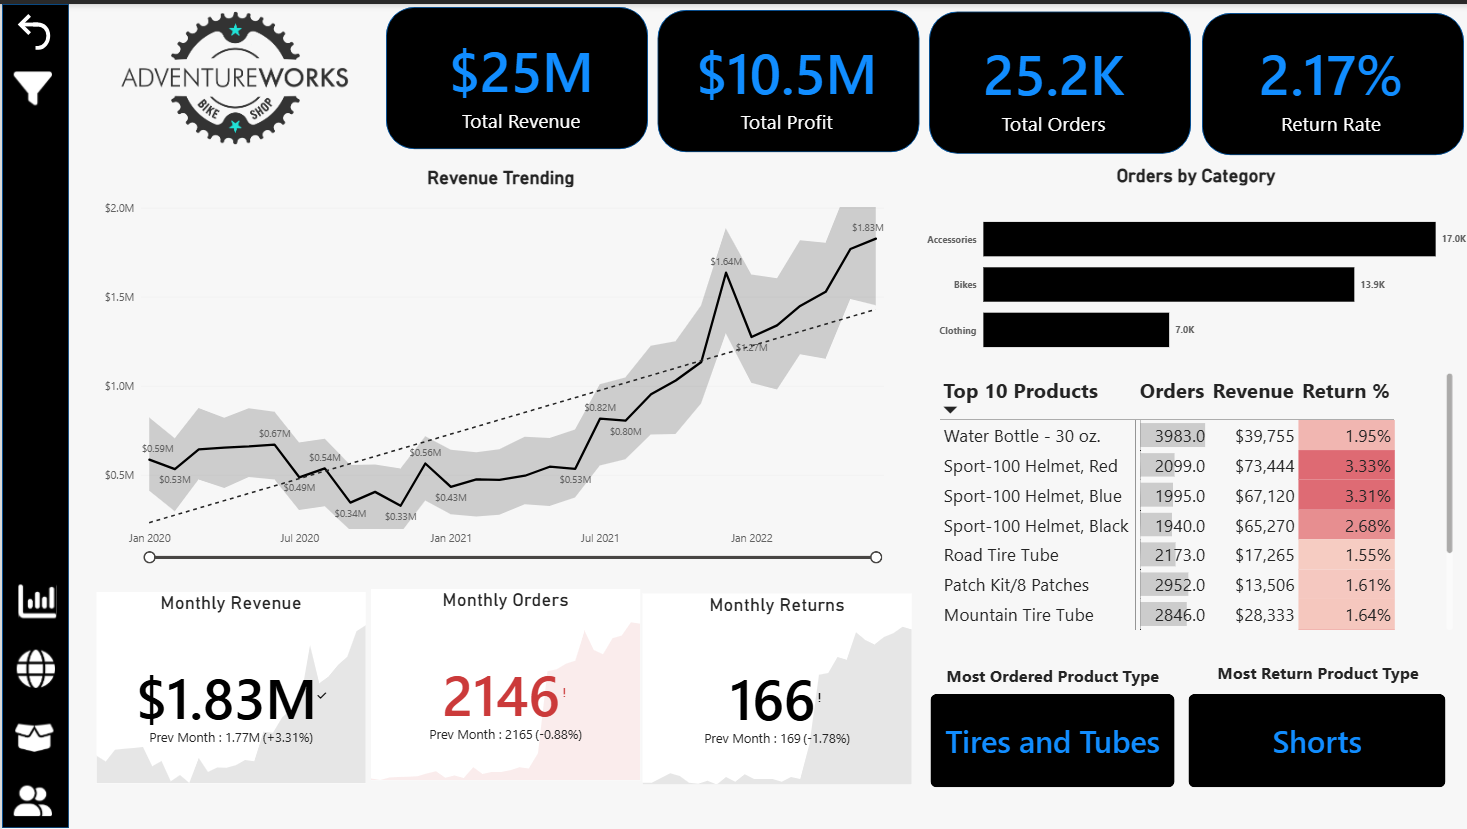

The page's visual inventory and layout, read from the dashboard file:
{"tool":"powerbi","page":{"name":"Exec Dashboard","canvas":[1920,1080],"ordinal":0},"visuals":[{"type":"shape","box":[502.6,4,342.6,185.9],"z":0,"group":"g1"},{"type":"cardVisual","fields":{"Data":["Measure Table.Total Revenue"]},"box":[534.2,19.8,291.8,167.4],"z":0,"group":"g2"},{"type":"clusteredBarChart","title":"Orders by Category","fields":{"Category":["AdventureWorks Product Categories Lookup.CategoryName"],"Y":["Measure Table.Total Orders"]},"box":[1208.3,209,706.4,265],"z":0},{"type":"cardVisual","fields":{"Data":["Min(AdventureWorks Product Subcategories Lookup.SubcategoryName)"]},"box":[1214.4,902.4,319.9,122.6],"z":0,"group":"g3"},{"type":"cardVisual","fields":{"Data":["Min(AdventureWorks Product Subcategories Lookup.SubcategoryName)"]},"box":[1552.4,904.1,336.8,122.6],"z":0,"group":"g4"},{"type":"image","box":[122.7,6.8,363.4,181.7],"z":1000},{"type":"shape","box":[856.8,7.3,342.6,185.9],"z":1000,"group":"g1"},{"type":"cardVisual","fields":{"Data":["Measure Table.Total Profit"]},"box":[880.4,22.4,291.8,167.4],"z":1000,"group":"g2"},{"type":"textbox","box":[1555,860,335,44.2],"z":1000,"group":"g4"},{"type":"textbox","box":[1223.8,862.3,300,40.8],"z":1000,"group":"g3"},{"type":"shape","box":[1212.4,9.8,342.6,185.9],"z":2000,"group":"g1"},{"type":"cardVisual","fields":{"Data":["Measure Table.Return Rate"]},"box":[1593.4,23.3,291.8,167.4],"z":2000,"group":"g2"},{"type":"lineChart","title":"Revenue Trending","fields":{"Category":["AdventureWorks Calendar Lookup1.Start of Month.Variation.Date Hierarchy.Year","AdventureWorks Calendar Lookup1.Start of Month.Variation.Date Hierarchy.Quarter","AdventureWorks Calendar Lookup1.Start of Month.Variation.Date Hierarchy.Month","AdventureWorks Calendar Lookup1.Start of Month.Variation.Date Hierarchy.Day"],"Y":["Measure Table.Total Revenue"]},"box":[118.1,197.6,1069,547.4],"z":2000},{"type":"group","id":"g1","title":"KPI BACKGROUND","box":[502.6,4,1408.7,193.4],"z":3000},{"type":"shape","box":[1568.7,11.5,342.6,185.9],"z":3000,"group":"g1"},{"type":"cardVisual","fields":{"Data":["Measure Table.Total Orders"]},"box":[1231.1,23.3,291.8,167.4],"z":3000,"group":"g2"},{"type":"group","id":"g2","title":"KPI VALUES","box":[534.2,19.8,1352.4,170.5],"z":4000,"group":"g1"},{"type":"kpi","title":"Monthly Revenue ","fields":{"Goal":["Measure Table.Previous Month Revenue"],"Indicator":["Measure Table.Total Revenue"],"TrendLine":["AdventureWorks Calendar Lookup1.Start of Month"]},"box":[122.7,768.5,352.1,249.8],"z":4000},{"type":"kpi","title":"Monthly Orders ","fields":{"Goal":["Measure Table.Previous Month Orders"],"Indicator":["Measure Table.Total Orders"],"TrendLine":["AdventureWorks Calendar Lookup1.Start of Month"]},"box":[481.5,765.4,352.1,249.8],"z":5000},{"type":"kpi","title":"Monthly Returns","fields":{"Goal":["Measure Table.Previous Month Returns"],"Indicator":["Measure Table.Total Return"],"TrendLine":["AdventureWorks Calendar Lookup1.Start of Month"]},"box":[837.4,770,352.1,249.8],"z":6000},{"type":"pivotTable","fields":{"Rows":["AdventureWorks Product Lookup.ProductName"],"Values":["Measure Table.Total Orders","Measure Table.Total Revenue","Measure Table.Return Rate"]},"box":[1225,481.5,671.5,336.2],"z":7000,"group":"g5"},{"type":"shape","box":[0,0,87.6,1077.6],"z":8000,"group":"g5"},{"type":"actionButton","box":[5.8,743.3,80.5,75],"z":9000,"group":"g5"},{"type":"actionButton","box":[1.7,922.5,80.5,75],"z":10000,"group":"g5"},{"type":"actionButton","box":[0,1004.2,80.5,75],"z":11000,"group":"g5"},{"type":"actionButton","box":[3.3,830.8,80.5,75],"z":12000,"group":"g5"},{"type":"actionButton","box":[0,73.4,80.5,75],"z":13000,"group":"g5"},{"type":"textbox","box":[1409,8,505,186],"z":14000},{"type":"group","id":"g3","title":"Group 1","box":[1214.4,862.3,320.3,163.5],"z":15000},{"type":"group","id":"g4","title":"Group 2","box":[1552.4,860,337.6,166.7],"z":16000},{"type":"actionButton","box":[0,0,85,72.5],"z":18000,"group":"g5"},{"type":"group","id":"g5","title":"Group 3","box":[0,0,1896.5,1079.2],"z":18001}]}

Visuals, with their boxes on the page's 1920x1080 design canvas (x1, y1, x2, y2). These are canvas units, not pixel positions in the 1467x829 screenshot, which may show the page scaled, cropped or inside an application window:
shape: bbox(503, 4, 845, 190)
cardVisual - Measure Table.Total Revenue: bbox(534, 20, 826, 187)
"Orders by Category" clusteredBarChart: bbox(1208, 209, 1915, 474)
cardVisual - Min(AdventureWorks Product Subcategories Lookup.SubcategoryName): bbox(1214, 902, 1534, 1025)
cardVisual - Min(AdventureWorks Product Subcategories Lookup.SubcategoryName): bbox(1552, 904, 1889, 1027)
image: bbox(123, 7, 486, 188)
shape: bbox(857, 7, 1199, 193)
cardVisual - Measure Table.Total Profit: bbox(880, 22, 1172, 190)
textbox: bbox(1555, 860, 1890, 904)
textbox: bbox(1224, 862, 1524, 903)
shape: bbox(1212, 10, 1555, 196)
cardVisual - Measure Table.Return Rate: bbox(1593, 23, 1885, 191)
"Revenue Trending" lineChart: bbox(118, 198, 1187, 745)
"KPI BACKGROUND" group: bbox(503, 4, 1911, 197)
shape: bbox(1569, 12, 1911, 197)
cardVisual - Measure Table.Total Orders: bbox(1231, 23, 1523, 191)
"KPI VALUES" group: bbox(534, 20, 1887, 190)
"Monthly Revenue " kpi: bbox(123, 768, 475, 1018)
"Monthly Orders " kpi: bbox(482, 765, 834, 1015)
"Monthly Returns" kpi: bbox(837, 770, 1190, 1020)
pivotTable - AdventureWorks Product Lookup.ProductName x Measure Table.Total Orders: bbox(1225, 482, 1896, 818)
shape: bbox(0, 0, 88, 1078)
actionButton: bbox(6, 743, 86, 818)
actionButton: bbox(2, 922, 82, 998)
actionButton: bbox(0, 1004, 80, 1079)
actionButton: bbox(3, 831, 84, 906)
actionButton: bbox(0, 73, 80, 148)
textbox: bbox(1409, 8, 1914, 194)
"Group 1" group: bbox(1214, 862, 1535, 1026)
"Group 2" group: bbox(1552, 860, 1890, 1027)
actionButton: bbox(0, 0, 85, 72)
"Group 3" group: bbox(0, 0, 1896, 1079)
